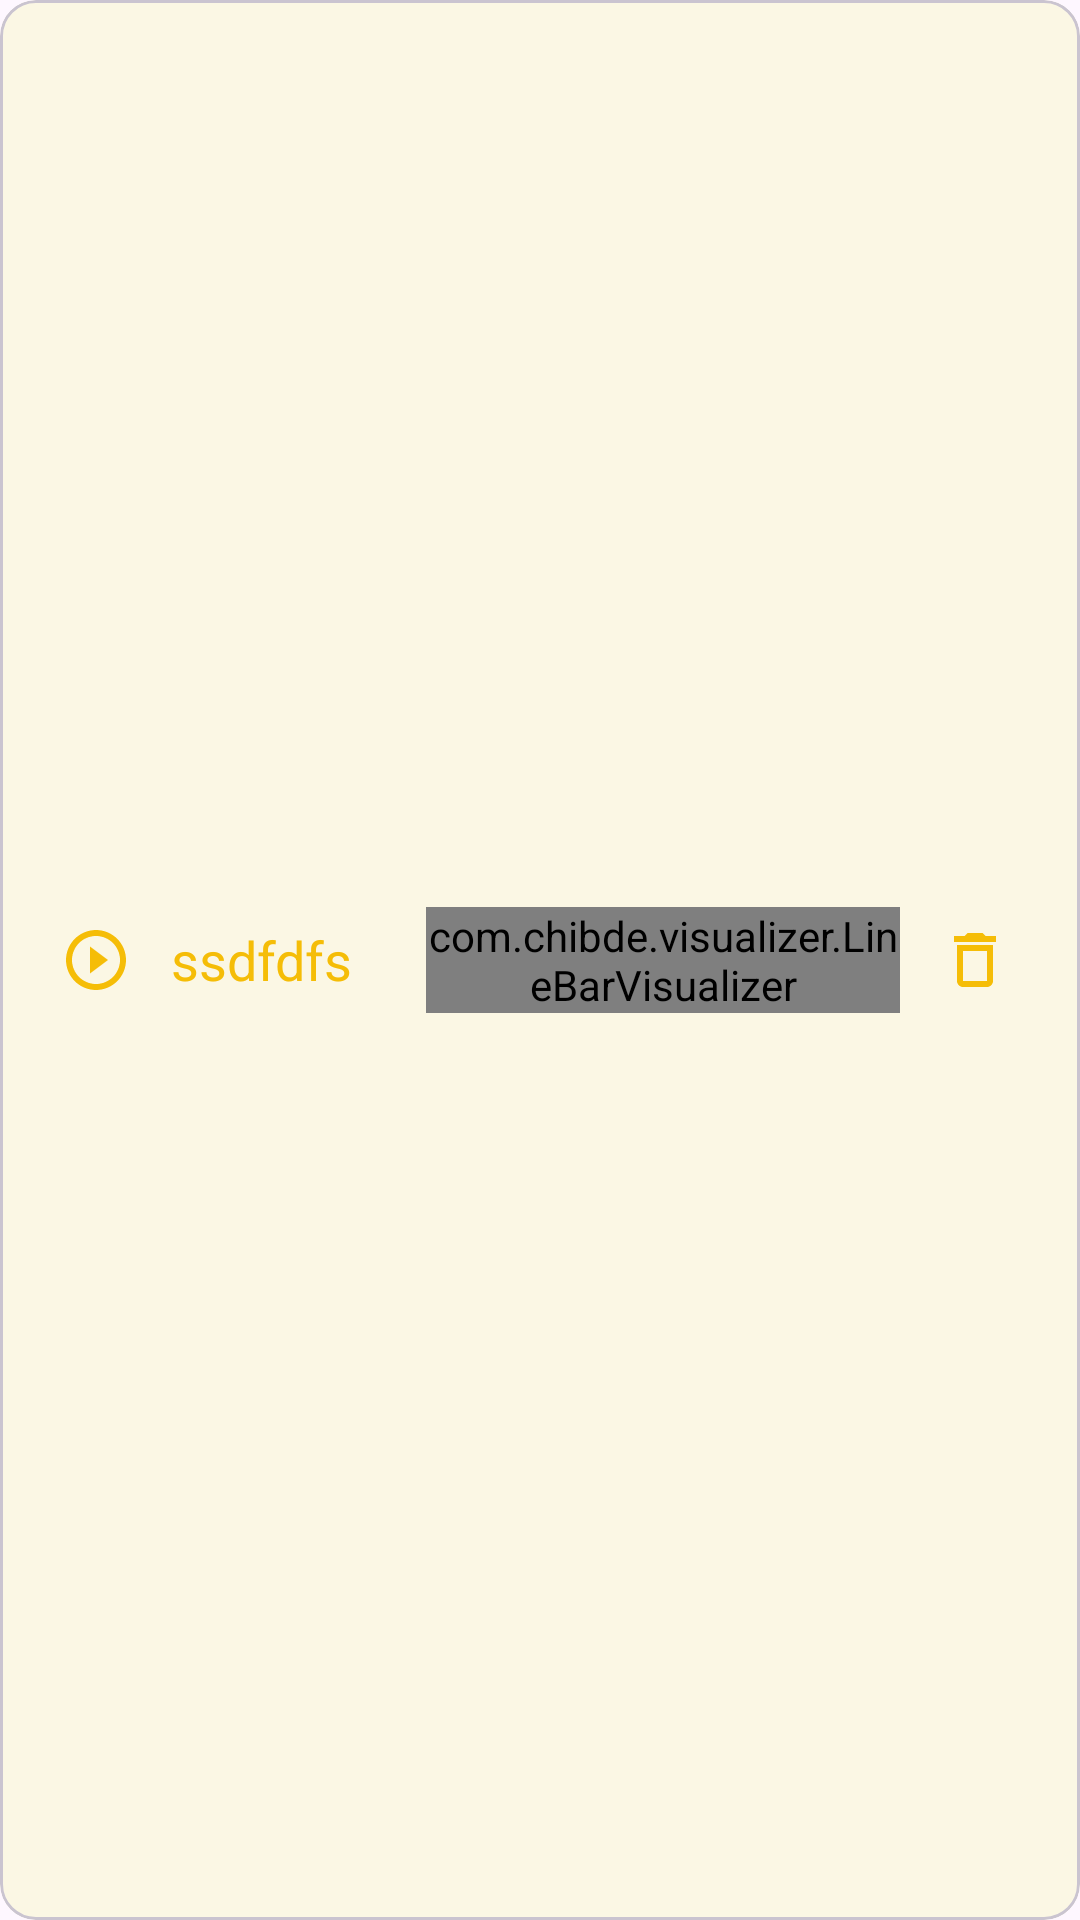

Named icons in this screenshot (1080w x 1920h) and their centers, (x=x, y=y):
audio delete: (x=975, y=960)
audio item play: (x=96, y=960)
